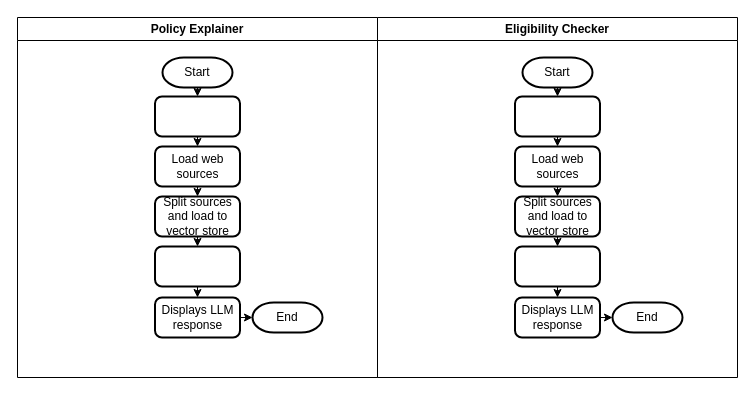
This 755x395 diagram has some shape labels left out. The centre of each missing label's shape, as x and y in pixels:
"Augment prompt and run chain" belongs at point (197, 266).
"Build prompt and run chain" belongs at point (557, 266).
"Obtain user free-text query" belongs at point (197, 116).
"Obtain user inputs via guided qns" belongs at point (557, 116).
